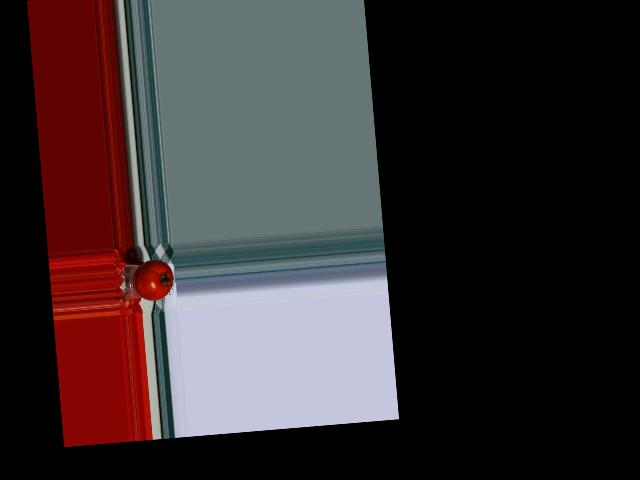tomato: (132, 258, 175, 303)
